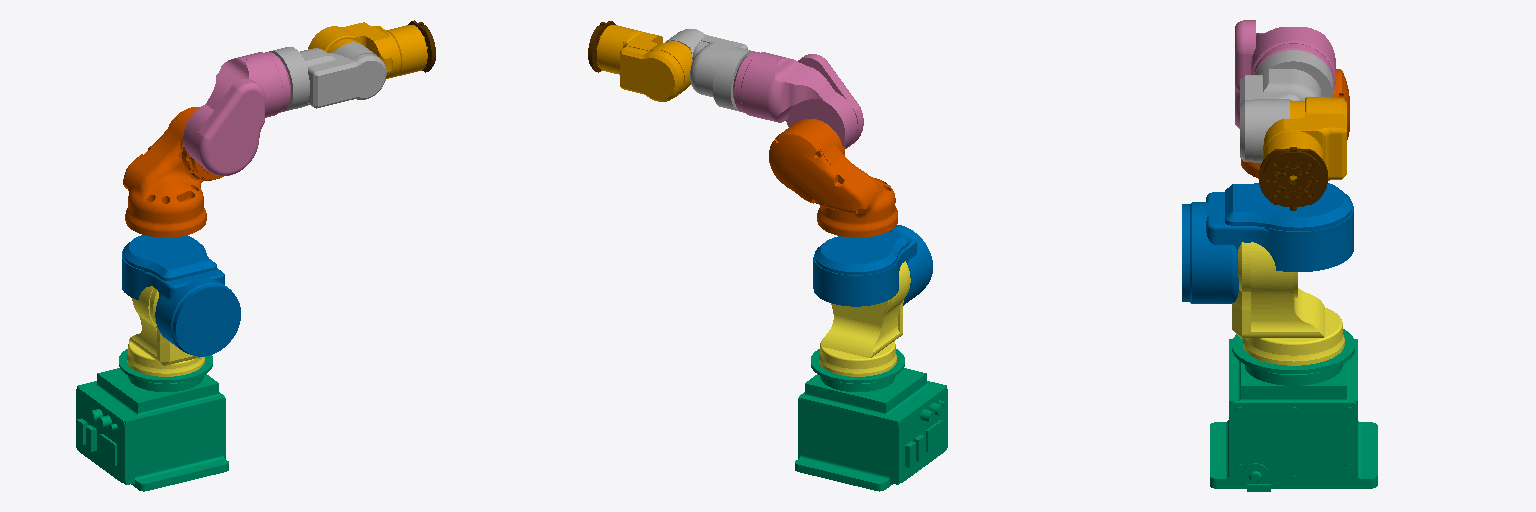
robot.urdf — sia5:
<?xml version="1.0" ?>
<!-- =================================================================================== -->
<!-- |    This document was autogenerated by xacro from sia5_no_tool.urdf.xacro        | -->
<!-- |    EDITING THIS FILE BY HAND IS NOT RECOMMENDED                                 | -->
<!-- =================================================================================== -->
<robot name="sia5" xmlns:xacro="http://ros.org/wiki/xacro">
  <!-- File Include -->
  <material name="black">
    <color rgba="0.0 0.0 0.0 1.0"/>
  </material>
  <material name="blue">
    <color rgba="0.0 0.0 0.8 1.0"/>
  </material>
  <material name="green">
    <color rgba="0.0 0.8 0.0 1.0"/>
  </material>
  <material name="grey">
    <color rgba="0.2 0.2 0.2 1.0"/>
  </material>
  <material name="orange">
    <color rgba="1.0 0.423529411765 0.0392156862745 1.0"/>
  </material>
  <material name="brown">
    <color rgba="0.870588235294 0.811764705882 0.764705882353 1.0"/>
  </material>
  <material name="red">
    <color rgba="0.8 0.0 0.0 1.0"/>
  </material>
  <material name="white">
    <color rgba="1.0 1.0 1.0 1.0"/>
  </material>
  <!-- gazebo -->
  <gazebo>
    <plugin filename="libgazebo_ros_control.so" name="gazebo_ros_control">
      <robotNamespace>/sia5</robotNamespace>
      <!-- <robotSimType>gazebo_ros_control/DefaultRobotHWSim</robotSimType> -->
    </plugin>
  </gazebo>
  <gazebo reference="base_link">
    <mu1>0.2</mu1>
    <mu2>0.2</mu2>
    <selfCollide>true</selfCollide>
  </gazebo>
  <gazebo reference="link_s">
    <mu1>0.2</mu1>
    <mu2>0.2</mu2>
    <selfCollide>true</selfCollide>
  </gazebo>
  <gazebo reference="link_l">
    <mu1>0.2</mu1>
    <mu2>0.2</mu2>
    <selfCollide>true</selfCollide>
  </gazebo>
  <gazebo reference="link_e">
    <mu1>0.2</mu1>
    <mu2>0.2</mu2>
    <selfCollide>true</selfCollide>
  </gazebo>
  <gazebo reference="link_u">
    <mu1>0.2</mu1>
    <mu2>0.2</mu2>
    <selfCollide>true</selfCollide>
  </gazebo>
  <gazebo reference="link_r">
    <mu1>0.2</mu1>
    <mu2>0.2</mu2>
    <selfCollide>true</selfCollide>
  </gazebo>
  <gazebo reference="link_b">
    <mu1>0.2</mu1>
    <mu2>0.2</mu2>
    <selfCollide>true</selfCollide>
  </gazebo>
  <gazebo reference="link_t">
    <mu1>0.2</mu1>
    <mu2>0.2</mu2>
    <selfCollide>true</selfCollide>
  </gazebo>
  <!-- Mass -->
  <!-- about mass rate -->
  <!-- Hard ware limits -->
  <!-- Range limits -->
  <!-- Velocity limits -->
  <!-- link -->
  <link name="world"/>
  <link name="table_link">
    <visual>
      <geometry>
        <mesh filename="package://motoman_description/meshes/sia5/visual/COLLADA/table_link.dae"/>
      </geometry>
    </visual>
    <collision>
      <geometry>
        <mesh filename="package://motoman_description/meshes/sia5/collision/STL/table_link.stl"/>
      </geometry>
    </collision>
    <inertial>
      <origin rpy="0 0 0" xyz="0.2 0 0.265"/>
      <mass value="40.0"/>
      <inertia ixx="2.45958666667" ixy="0" ixz="0" iyy="5.08785333333" iyz="0" izz="5.67477333333"/>
    </inertial>
  </link>
  <link name="base_link">
    <visual>
      <geometry>
        <mesh filename="package://motoman_description/meshes/sia5/visual/COLLADA/base_link.dae"/>
      </geometry>
    </visual>
    <collision>
      <geometry>
        <mesh filename="package://motoman_description/meshes/sia5/collision/STL/base_link.stl"/>
      </geometry>
    </collision>
    <inertial>
      <origin rpy="0 0 0" xyz="-0.025918 -0.000376 0.076105"/>
      <mass value="9.23913043478"/>
      <inertia ixx="0.0378685009058" ixy="0" ixz="0" iyy="0.0465867830616" iyz="0" izz="0.0514065294384"/>
    </inertial>
  </link>
  <link name="link_s">
    <visual>
      <geometry>
        <mesh filename="package://motoman_description/meshes/sia5/visual/COLLADA/link_s.dae"/>
      </geometry>
    </visual>
    <collision>
      <geometry>
        <mesh filename="package://motoman_description/meshes/sia5/collision/STL/link_s.stl"/>
      </geometry>
    </collision>
    <inertial>
      <origin rpy="0 0 0" xyz="0 0 0"/>
      <mass value="8.36956521739"/>
      <inertia ixx="0.1285284" ixy="0" ixz="0" iyy="0.127697251956" iyz="0" izz="0.0186623672464"/>
    </inertial>
  </link>
  <link name="link_l">
    <visual>
      <geometry>
        <mesh filename="package://motoman_description/meshes/sia5/visual/COLLADA/link_l.dae"/>
      </geometry>
    </visual>
    <collision>
      <geometry>
        <mesh filename="package://motoman_description/meshes/sia5/collision/STL/link_l.stl"/>
      </geometry>
    </collision>
    <inertial>
      <origin rpy="3.14159274 0 0" xyz="0 -0.006 0.15"/>
      <mass value="7.60869565217"/>
      <inertia ixx="0.12248884058" ixy="0" ixz="0" iyy="0.117554616667" iyz="0" izz="0.0177495804348"/>
    </inertial>
  </link>
  <link name="link_e">
    <visual>
      <geometry>
        <mesh filename="package://motoman_description/meshes/sia5/visual/COLLADA/link_e.dae"/>
      </geometry>
    </visual>
    <collision>
      <geometry>
        <mesh filename="package://motoman_description/meshes/sia5/collision/STL/link_e.stl"/>
      </geometry>
    </collision>
    <inertial>
      <origin rpy="0 0 -1.57079637" xyz="0 0 0"/>
      <mass value="1.30434782609"/>
      <inertia ixx="0.0122899381739" ixy="0" ixz="0" iyy="0.0117127787826" iyz="0" izz="0.00344401234783"/>
    </inertial>
  </link>
  <link name="link_u">
    <visual>
      <geometry>
        <mesh filename="package://motoman_description/meshes/sia5/visual/COLLADA/link_u.dae"/>
      </geometry>
    </visual>
    <collision>
      <geometry>
        <mesh filename="package://motoman_description/meshes/sia5/collision/STL/link_u.stl"/>
      </geometry>
    </collision>
    <inertial>
      <origin rpy="-3.14159274 1.57079637 0" xyz="0.008 -0.06 -0.131"/>
      <mass value="1.08695652174"/>
      <inertia ixx="0.0110207115768" ixy="0" ixz="0" iyy="0.00996803594202" iyz="0" izz="0.00214043853333"/>
    </inertial>
  </link>
  <link name="link_r">
    <visual>
      <geometry>
        <mesh filename="package://motoman_description/meshes/sia5/visual/COLLADA/link_r.dae"/>
      </geometry>
    </visual>
    <collision>
      <geometry>
        <mesh filename="package://motoman_description/meshes/sia5/collision/STL/link_r.stl"/>
      </geometry>
    </collision>
    <inertial>
      <origin rpy="0 0 -1.57079637" xyz="0 0 0"/>
      <mass value="0.978260869565"/>
      <inertia ixx="0.0108400832201" ixy="0" ixz="0" iyy="0.010708873981" iyz="0" izz="0.00140456861413"/>
    </inertial>
  </link>
  <link name="link_b">
    <visual>
      <geometry>
        <mesh filename="package://motoman_description/meshes/sia5/visual/COLLADA/link_b.dae"/>
      </geometry>
    </visual>
    <collision>
      <geometry>
        <mesh filename="package://motoman_description/meshes/sia5/collision/STL/link_b.stl"/>
      </geometry>
    </collision>
    <inertial>
      <origin rpy="1.57079637 -1.57079637 0" xyz="0 0.0045 0.1365"/>
      <mass value="0.869565217391"/>
      <inertia ixx="0.00814341869565" ixy="0" ixz="0" iyy="0.00709473869565" iyz="0" izz="0.000736577391304"/>
    </inertial>
  </link>
  <link name="link_t">
    <visual>
      <geometry>
        <mesh filename="package://motoman_description/meshes/sia5/visual/COLLADA/link_t.dae"/>
      </geometry>
    </visual>
    <collision>
      <geometry>
        <mesh filename="package://motoman_description/meshes/sia5/collision/STL/link_t.stl"/>
      </geometry>
    </collision>
    <inertial>
      <mass value="0.54347826087"/>
      <inertia ixx="0.003" ixy="0" ixz="0" iyy="0.003" iyz="0" izz="0.001"/>
    </inertial>
  </link>
  <link name="tool0"/>
  <!-- joint -->
  <joint name="world" type="fixed">
    <parent link="world"/>
    <child link="table_link"/>
    <origin xyz="0 0 0.53"/>
  </joint>
  <joint name="joint_base" type="fixed">
    <parent link="table_link"/>
    <child link="base_link"/>
  </joint>
  <joint name="joint_s" type="revolute">
    <origin rpy="0 0 0" xyz="0 0 0.1765"/>
    <parent link="base_link"/>
    <child link="link_s"/>
    <axis xyz="0 0 1"/>
    <dynamics damping="0.7" friction="0.7"/>
    <limit effort="30.0" lower="-3.14159256547" upper="3.14159256547" velocity="3.4906586"/>
  </joint>
  <joint name="joint_l" type="revolute">
    <origin rpy="0 0 0" xyz="0 0.006 0.136"/>
    <parent link="link_s"/>
    <child link="link_l"/>
    <axis xyz="0 1 0"/>
    <dynamics damping="0.7" friction="0.7"/>
    <limit effort="30.0" lower="-1.91986223" upper="1.91986223" velocity="3.4906586"/>
  </joint>
  <joint name="joint_e" type="revolute">
    <origin rpy="0 0 0" xyz="0 -0.006 0.15"/>
    <parent link="link_l"/>
    <child link="link_e"/>
    <axis xyz="0 0 1"/>
    <dynamics damping="0.7" friction="0.7"/>
    <limit effort="30.0" lower="-2.96705981" upper="2.96705981" velocity="3.4906586"/>
  </joint>
  <joint name="joint_u" type="revolute">
    <origin rpy="1.57079637 0 0" xyz="0.085 -0.00826931 0.12275299"/>
    <parent link="link_e"/>
    <child link="link_u"/>
    <axis xyz="0 0 1"/>
    <dynamics damping="0.7" friction="0.7"/>
    <limit effort="30.0" lower="-1.57079637" upper="2.007128695" velocity="3.4906586"/>
  </joint>
  <joint name="joint_r" type="revolute">
    <origin rpy="0 1.57079637 0" xyz="0.131 0.06 -0.008"/>
    <parent link="link_u"/>
    <child link="link_r"/>
    <axis xyz="0 0 -1"/>
    <dynamics damping="0.7" friction="0.7"/>
    <limit effort="14.7" lower="-3.14159256547" upper="3.14159256547" velocity="3.4906586"/>
  </joint>
  <joint name="joint_b" type="revolute">
    <origin rpy="0 -1.57079637 0" xyz="-0.0045 0 0.139"/>
    <parent link="link_r"/>
    <child link="link_b"/>
    <axis xyz="0 0 1"/>
    <dynamics damping="0.7" friction="0.7"/>
    <limit effort="14.7" lower="-1.91986223" upper="1.91986223" velocity="4.01425739"/>
  </joint>
  <joint name="joint_t" type="revolute">
    <origin rpy="-1.57079637 0 0" xyz="0.1365 0 -0.0045"/>
    <parent link="link_b"/>
    <child link="link_t"/>
    <axis xyz="-1 0 0"/>
    <dynamics damping="0.7" friction="0.7"/>
    <limit effort="7.35" lower="-3.14159256547" upper="3.14159256547" velocity="6.10865255"/>
  </joint>
  <joint name="joint_tool0" type="fixed">
    <origin rpy="0 0 0" xyz="0.0115 0 -0.040"/>
    <parent link="link_t"/>
    <child link="tool0"/>
  </joint>
  <!-- transmission -->
  <transmission name="transmission_s">
    <type>transmission_interface/SimpleTransmission</type>
    <joint name="joint_s">
      <hardwareInterface>EffortJointInterface</hardwareInterface>
    </joint>
    <actuator name="motor_s">
      <hardwareInterface>EffortJointInterface</hardwareInterface>
      <mechanicalReduction>1</mechanicalReduction>
    </actuator>
  </transmission>
  <transmission name="transmission_l">
    <type>transmission_interface/SimpleTransmission</type>
    <joint name="joint_l">
      <hardwareInterface>EffortJointInterface</hardwareInterface>
    </joint>
    <actuator name="motor_l">
      <hardwareInterface>EffortJointInterface</hardwareInterface>
      <mechanicalReduction>1</mechanicalReduction>
    </actuator>
  </transmission>
  <transmission name="transmission_e">
    <type>transmission_interface/SimpleTransmission</type>
    <joint name="joint_e">
      <hardwareInterface>EffortJointInterface</hardwareInterface>
    </joint>
    <actuator name="motor_e">
      <hardwareInterface>EffortJointInterface</hardwareInterface>
      <mechanicalReduction>1</mechanicalReduction>
    </actuator>
  </transmission>
  <transmission name="transmission_u">
    <type>transmission_interface/SimpleTransmission</type>
    <joint name="joint_u">
      <hardwareInterface>EffortJointInterface</hardwareInterface>
    </joint>
    <actuator name="motor_u">
      <hardwareInterface>EffortJointInterface</hardwareInterface>
      <mechanicalReduction>1</mechanicalReduction>
    </actuator>
  </transmission>
  <transmission name="transmission_r">
    <type>transmission_interface/SimpleTransmission</type>
    <joint name="joint_r">
      <hardwareInterface>EffortJointInterface</hardwareInterface>
    </joint>
    <actuator name="motor_r">
      <hardwareInterface>EffortJointInterface</hardwareInterface>
      <mechanicalReduction>1</mechanicalReduction>
    </actuator>
  </transmission>
  <transmission name="transmission_b">
    <type>transmission_interface/SimpleTransmission</type>
    <joint name="joint_b">
      <hardwareInterface>EffortJointInterface</hardwareInterface>
    </joint>
    <actuator name="motor_b">
      <hardwareInterface>EffortJointInterface</hardwareInterface>
      <mechanicalReduction>1</mechanicalReduction>
    </actuator>
  </transmission>
  <transmission name="transmission_t">
    <type>transmission_interface/SimpleTransmission</type>
    <joint name="joint_t">
      <hardwareInterface>EffortJointInterface</hardwareInterface>
    </joint>
    <actuator name="motor_t">
      <hardwareInterface>EffortJointInterface</hardwareInterface>
      <mechanicalReduction>1</mechanicalReduction>
    </actuator>
  </transmission>
</robot>

--- What the picture shows (computed from the rendered views, not written in the file) ---
3 views of the same robot in one strip: view 1: azimuth 30°, elevation 25°; view 2: azimuth 150°, elevation 25°; view 3: azimuth 270°, elevation 25° (orthographic).
Robot: sia5 — 11 links, 10 joints (7 revolute, 3 fixed); root link world; default pose: every joint at zero.
Links seen in each view (by area): view 1: base_link, link_l, link_u, link_e, link_r, link_b, link_s; view 2: base_link, link_e, link_u, link_l, link_s, link_b, link_r; view 3: base_link, link_l, link_s, link_r, link_b, link_u, link_t, link_e.
Boxes of the visible links, x1,y1,x2,y2 form: base_link: (76, 349, 228, 491); link_l: (122, 235, 240, 356); link_u: (183, 52, 290, 175); link_e: (123, 107, 223, 237); link_r: (269, 42, 386, 111); link_b: (308, 22, 427, 78); link_s: (127, 286, 204, 376); base_link: (795, 349, 947, 491); link_e: (769, 119, 897, 237); link_u: (733, 52, 863, 148); link_l: (813, 225, 932, 306); link_s: (819, 261, 910, 376); link_b: (596, 25, 692, 101); link_r: (665, 29, 754, 111); base_link: (1210, 329, 1377, 491); link_l: (1182, 183, 1353, 303); link_s: (1232, 242, 1344, 365); link_r: (1240, 50, 1333, 162); link_b: (1262, 97, 1346, 180); link_u: (1235, 20, 1335, 128); link_t: (1259, 147, 1327, 210); link_e: (1241, 69, 1349, 178).
Bounding box of the posed robot: 0.6479 × 0.2528 × 0.7003 m (x, y, z).
Meshes: 9 distinct files referenced, 8 mesh visuals loaded (8 Collada DAE); not drawn: 1 (reference not matched to a file when rendering).